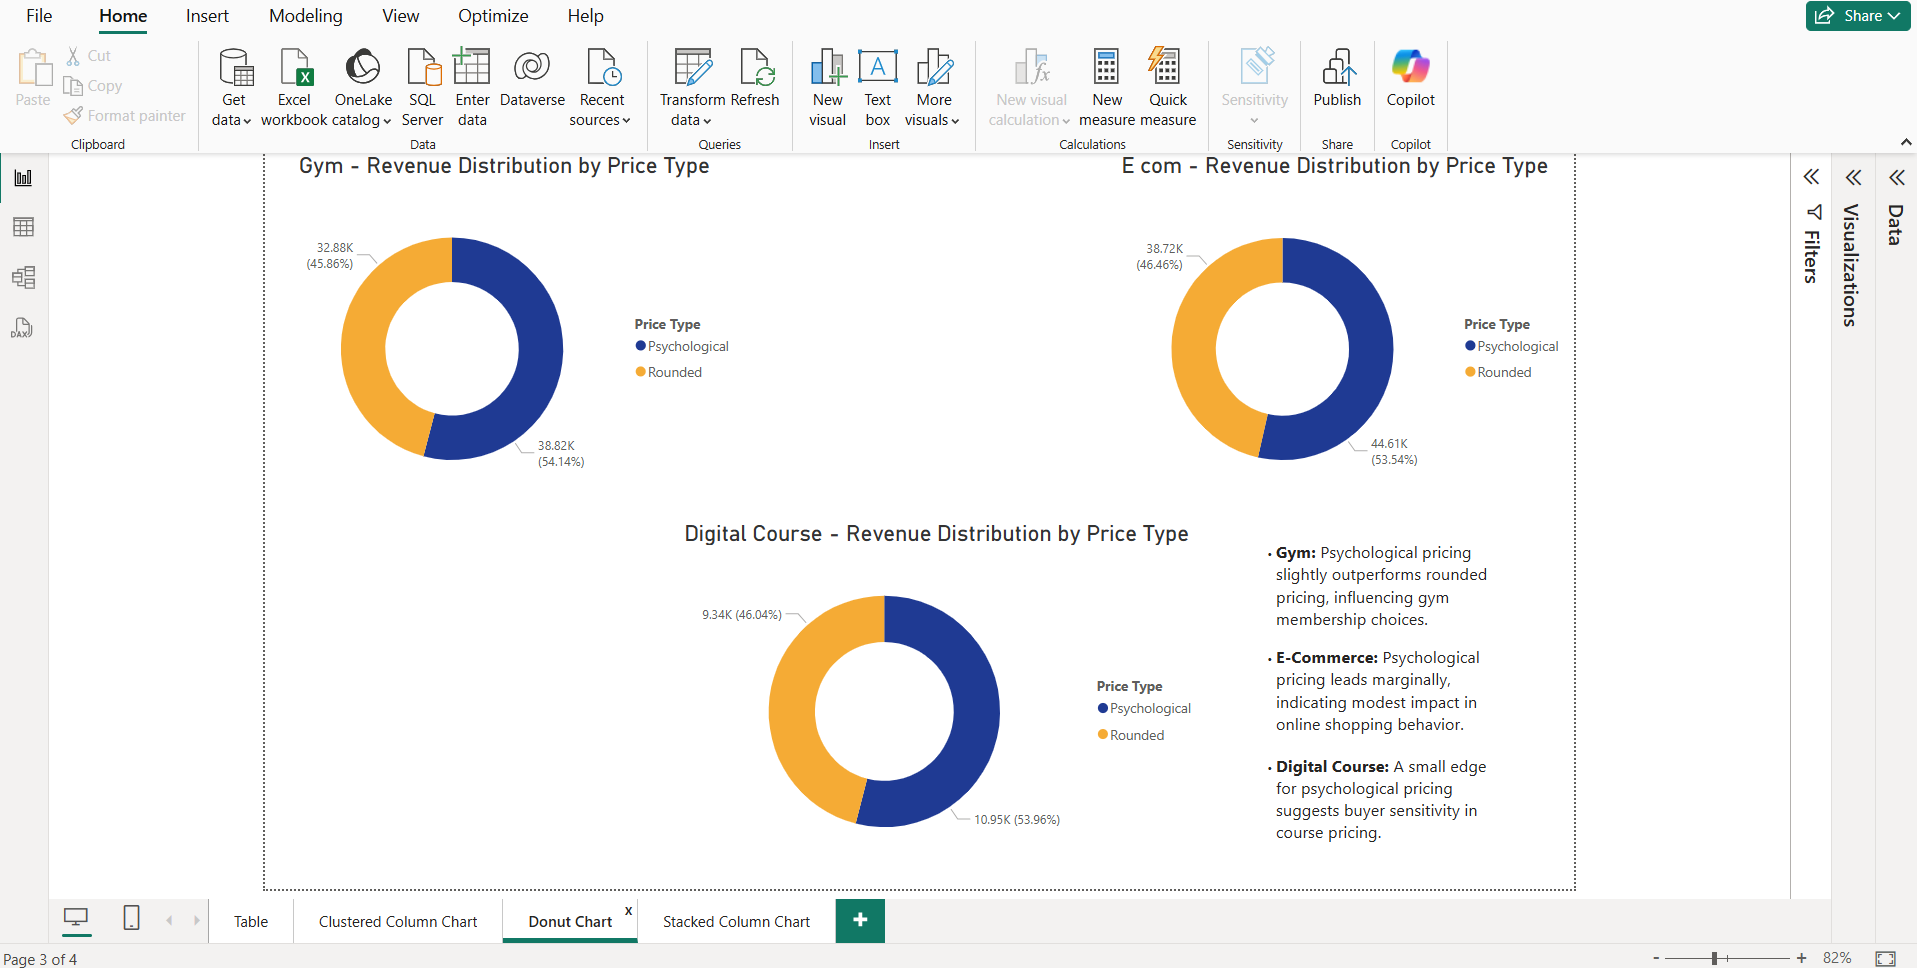

The dashboard page shown, as its layout file describes it:
{"tool":"powerbi","page":{"name":"Donut Chart","canvas":[1280,720],"ordinal":2},"visuals":[{"type":"donutChart","title":"Gym - Revenue Distribution by Price Type","fields":{"Category":["Sheet1.Price Type"],"Y":["Sum(Sheet1.Revenue)"],"Series":["Sheet1.Category"]},"box":[0,0,468.3,359.5],"z":0,"group":"g2"},{"type":"donutChart","title":"E com - Revenue Distribution by Price Type","fields":{"Category":["Sheet1.Price Type"],"Y":["Sum(Sheet1.Revenue)"],"Series":["Sheet1.Category"]},"box":[813.3,0,466.7,360],"z":1000,"group":"g2"},{"type":"donutChart","title":"Digital Course - Revenue Distribution by Price Type","fields":{"Category":["Sheet1.Price Type"],"Y":["Sum(Sheet1.Revenue)"],"Series":["Sheet1.Category"]},"box":[393.3,360,526.7,350],"z":2000,"group":"g2"},{"type":"group","id":"g1","title":"Group 1","box":[0,0,1280,719.5],"z":2004},{"type":"group","id":"g2","title":"Group 2","box":[0,0,1280,719.5],"z":2005,"group":"g1"},{"type":"textbox","box":[965.6,373.9,247.4,103.6],"z":3000,"group":"g2"},{"type":"textbox","box":[965.6,583.7,247.4,135.8],"z":4000,"group":"g2"},{"type":"textbox","box":[965.6,477.4,247.4,106.2],"z":5000,"group":"g2"}]}

Visuals, with their boxes on the page's 1280x720 design canvas (x1, y1, x2, y2). These are canvas units, not pixel positions in the 1917x968 screenshot, which may show the page scaled, cropped or inside an application window:
"Gym - Revenue Distribution by Price Type" donutChart: <region>0, 0, 468, 360</region>
"E com - Revenue Distribution by Price Type" donutChart: <region>813, 0, 1280, 360</region>
"Digital Course - Revenue Distribution by Price Type" donutChart: <region>393, 360, 920, 710</region>
"Group 1" group: <region>0, 0, 1280, 720</region>
"Group 2" group: <region>0, 0, 1280, 720</region>
textbox: <region>966, 374, 1213, 478</region>
textbox: <region>966, 584, 1213, 720</region>
textbox: <region>966, 477, 1213, 584</region>
